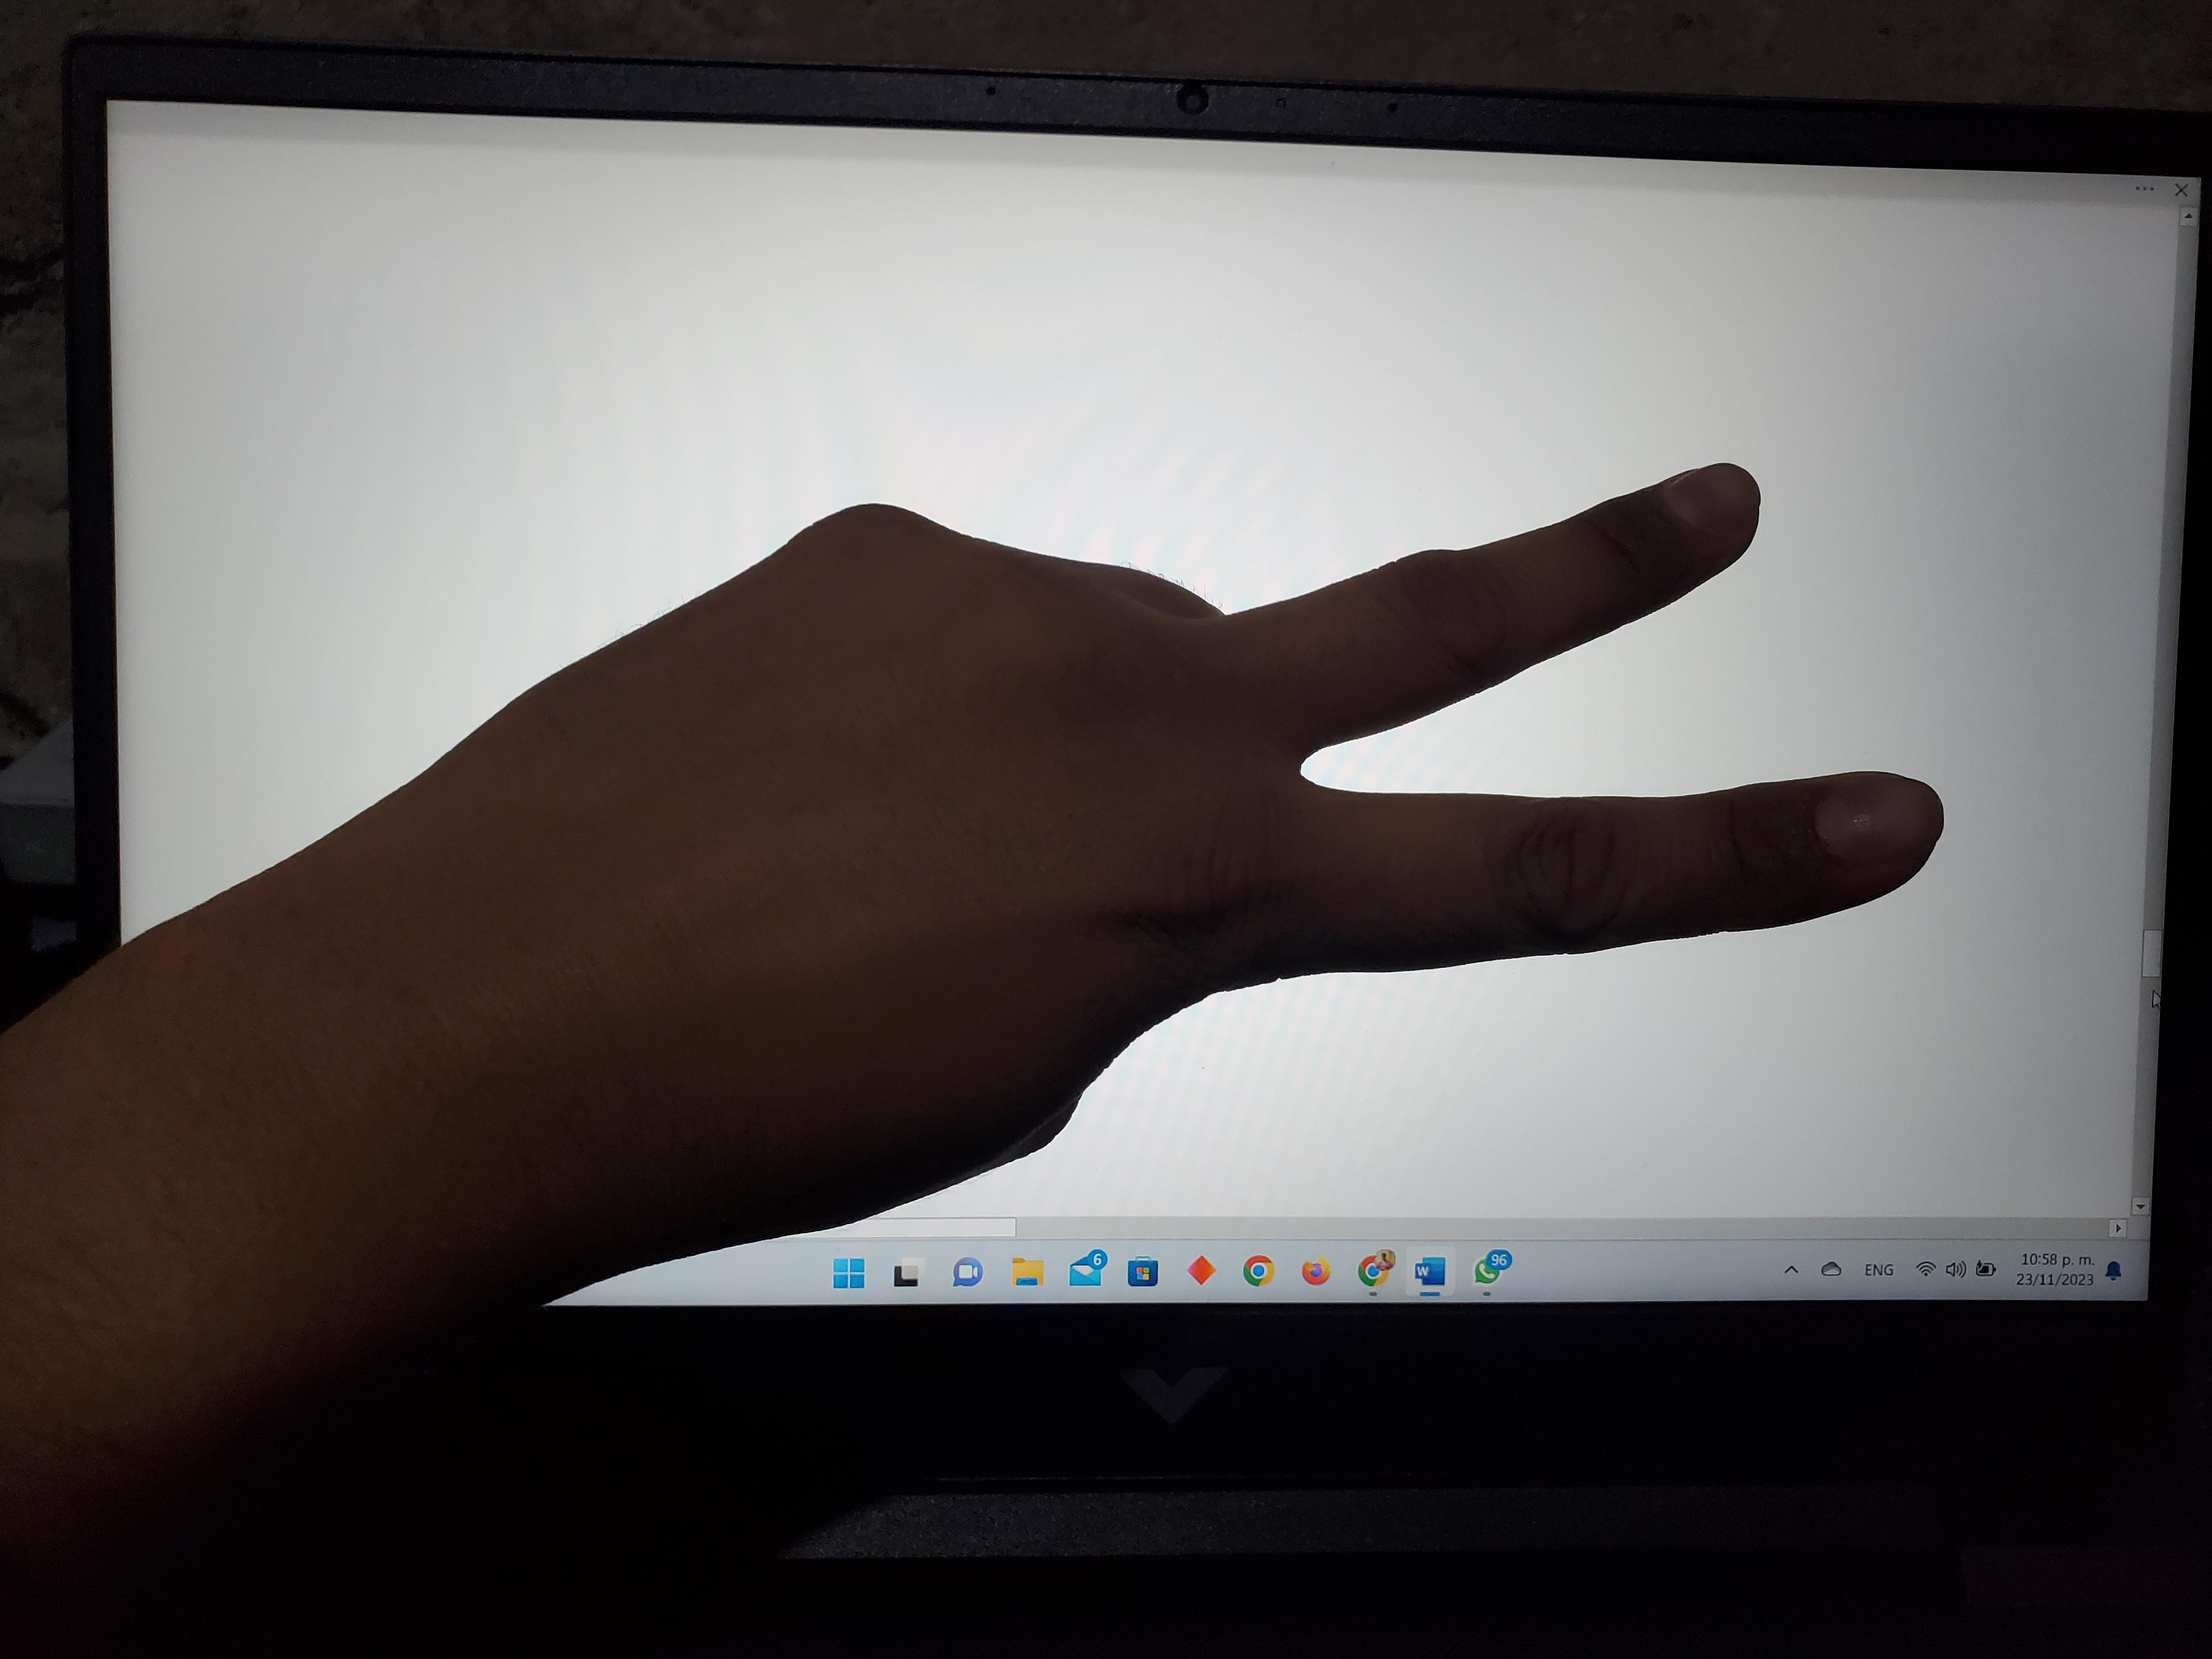Scissor: (50, 215, 2155, 1391)
